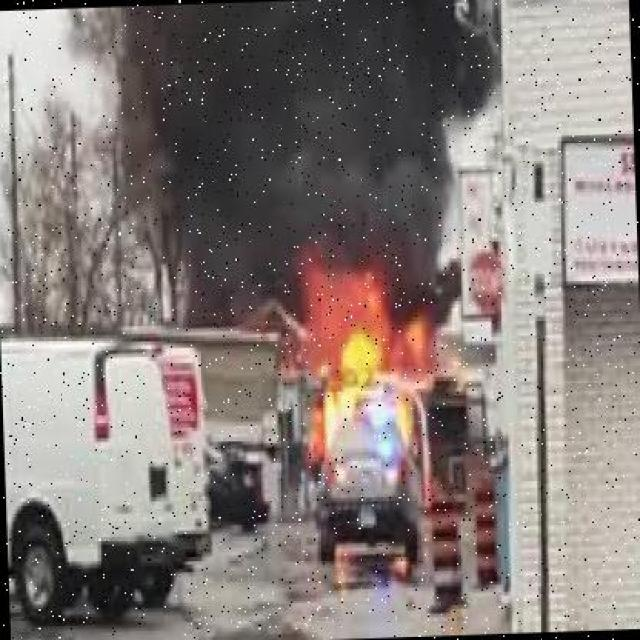fire: (270, 240, 442, 494)
